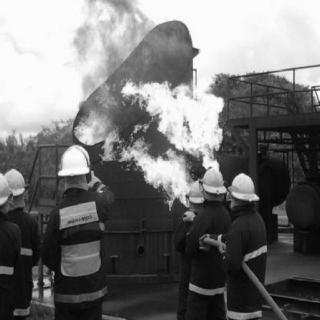other: (60, 239, 102, 277)
